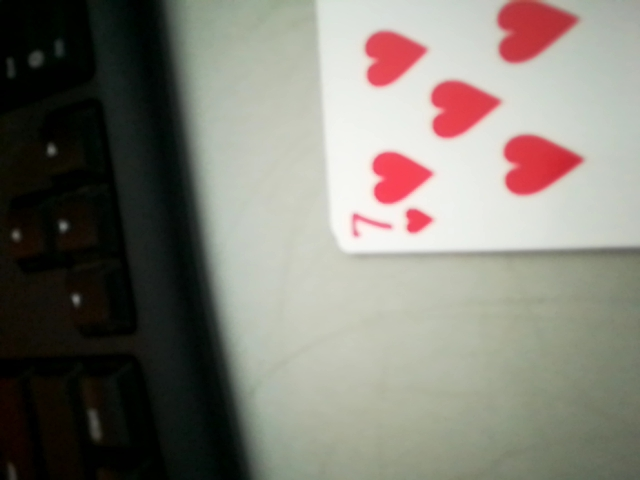hx 7: (343, 202, 443, 257)
